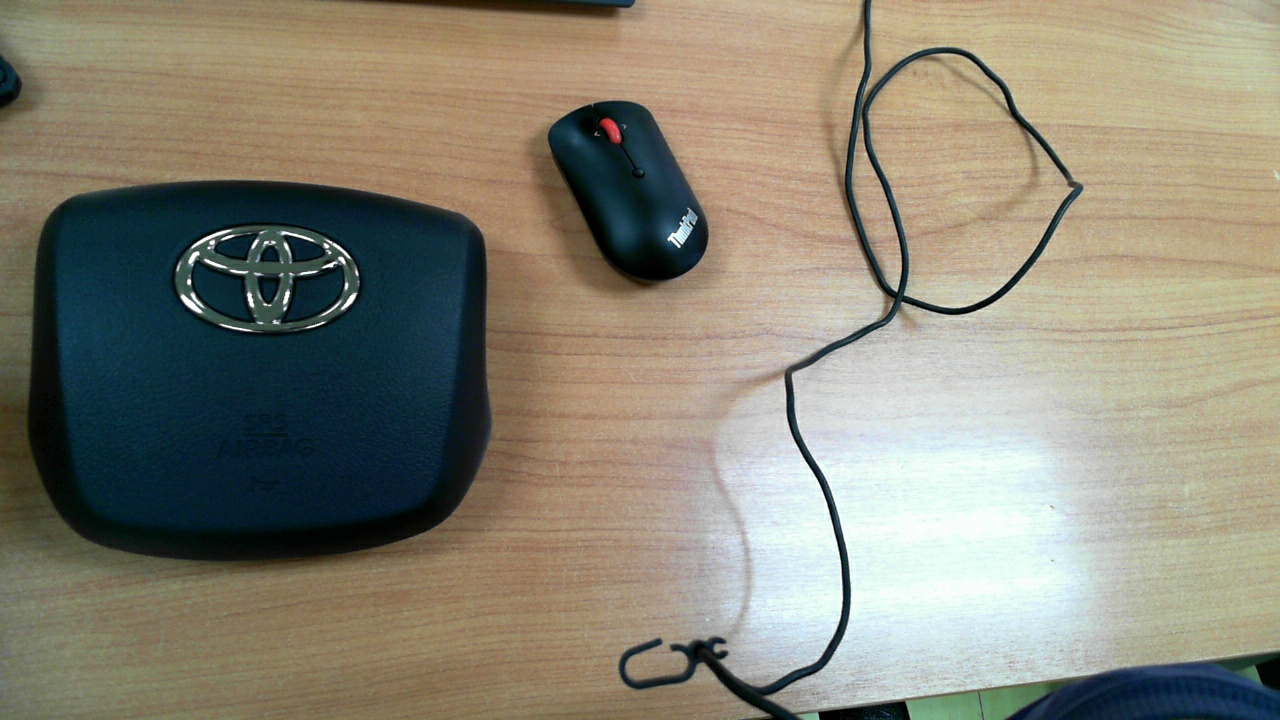Airbag: (0, 152, 494, 594)
